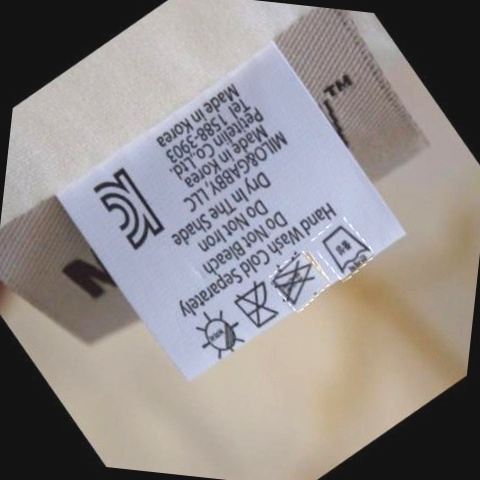DN_bleach: (273, 253, 317, 306)
DN_iron: (236, 282, 283, 328)
dry_flat_in_shade: (197, 308, 245, 359)
hand_wash: (315, 220, 374, 277)
